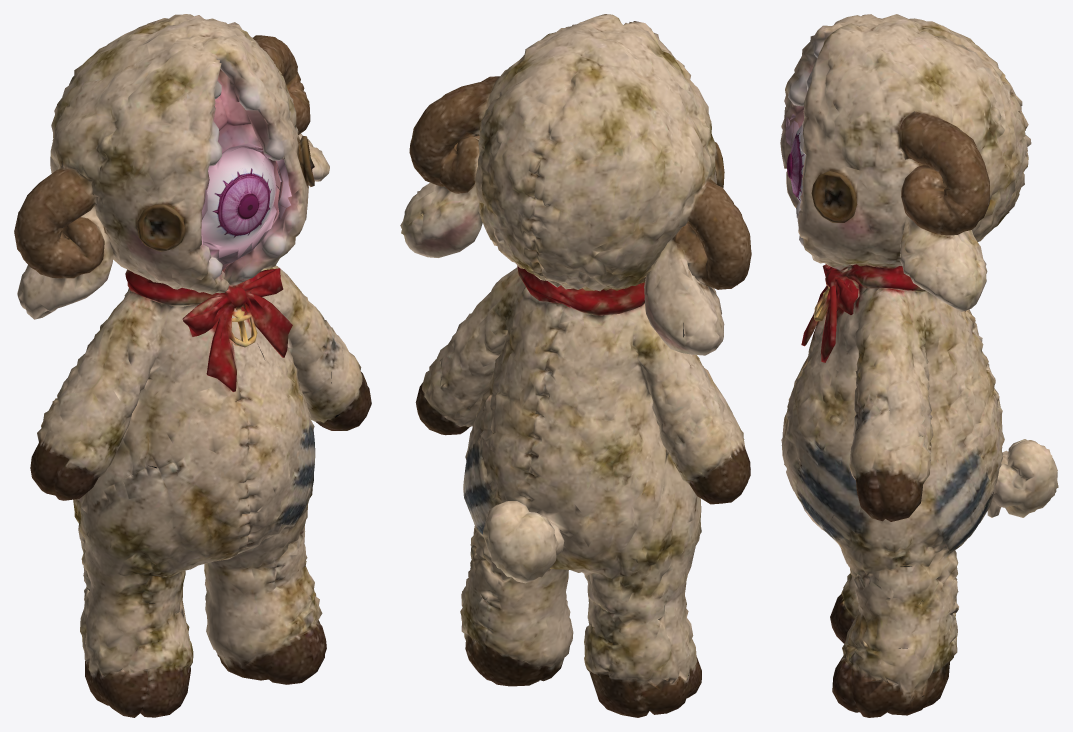
File: agnello_occhio.glb
The picture shows the model from 3 angles, left to right: view 1: azimuth 30°, elevation 25°; view 2: azimuth 150°, elevation 25°; view 3: azimuth 270°, elevation 25°; orthographic projection. The views are drawn at different scales.
Parts seen in each view (by area): view 1: agnello_occhio, occhio_bulbo; view 2: agnello_occhio; view 3: agnello_occhio, occhio_bulbo.
Boxes of the visible parts, left/top/right/bottom form: agnello_occhio: left=14, top=14, right=371, bottom=717; occhio_bulbo: left=201, top=143, right=291, bottom=259; agnello_occhio: left=400, top=14, right=751, bottom=717; agnello_occhio: left=780, top=14, right=1058, bottom=717; occhio_bulbo: left=785, top=114, right=805, bottom=202.
Bounding box in the file's own units: 0.6415 × 1.2 × 0.4687.
Materials: 2 (2 with a texture image).
